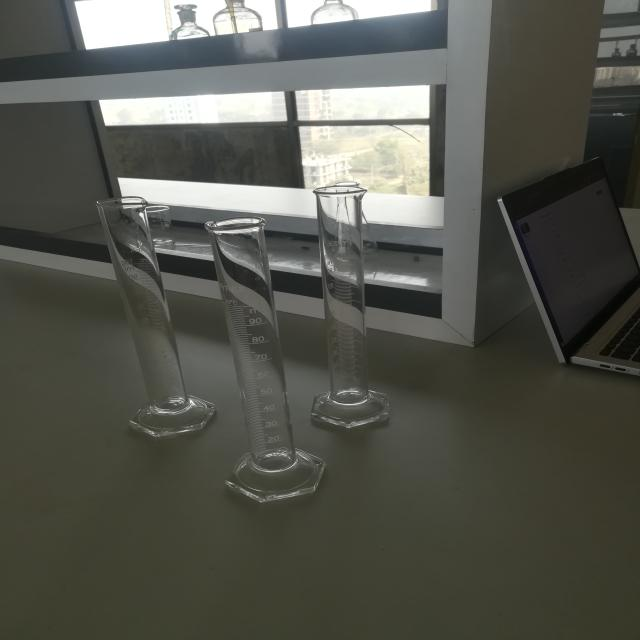Measuring_Cylinder: (181, 202, 341, 530), (65, 176, 229, 465), (293, 163, 423, 451)
